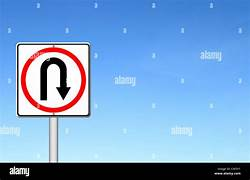back: (19, 46, 87, 112)
